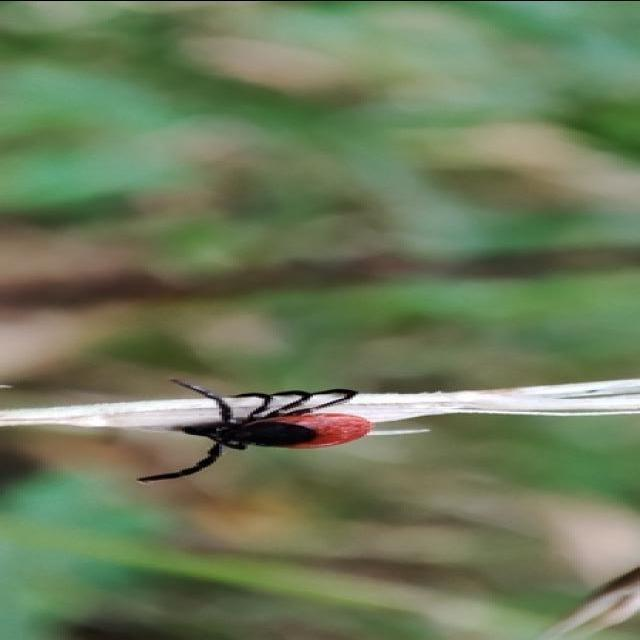Ixodes Ricinus-F: (137, 383, 373, 481)
